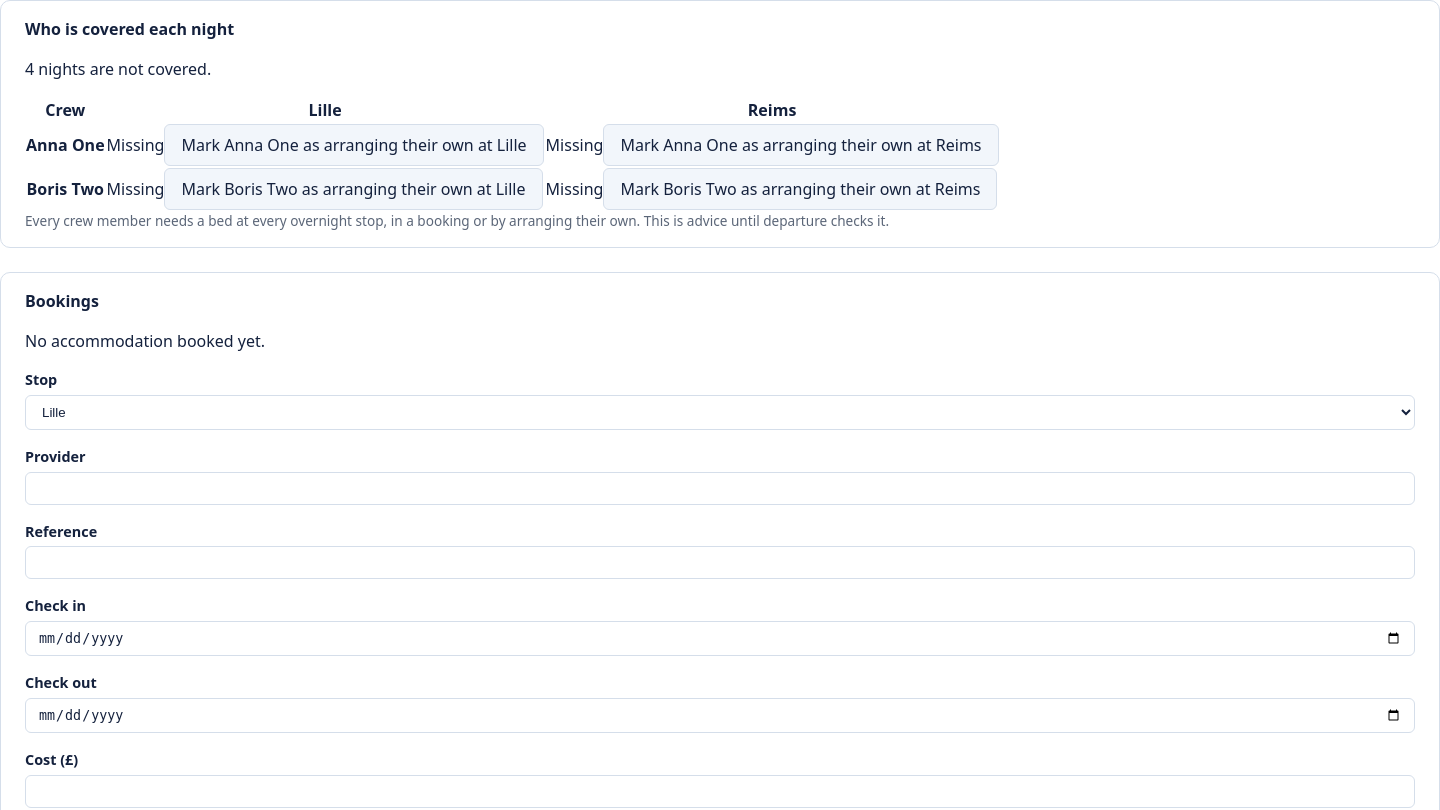
it: a missing cell can be marked as arranging their own, and cleared again
Step 1. Click the button "Mark Anna One as arranging their own at Lille" → coordinates (354, 145), box [164, 124, 544, 166]
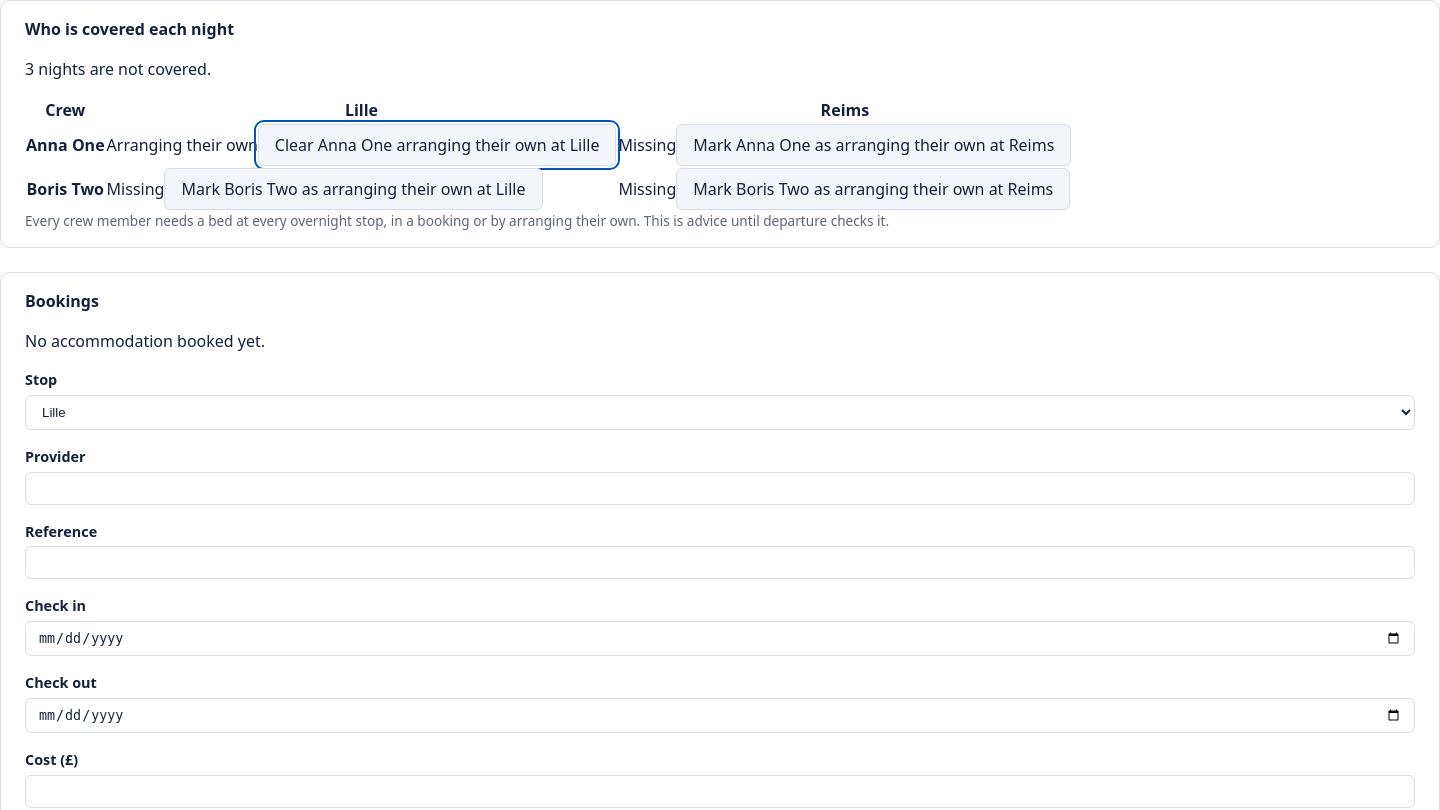
Expected: the cell named "Anna One at Lille: Arranging their own" is shown, [106, 123, 617, 167]
Step 2. Click the button "Clear Anna One arranging their own at Lille" → coordinates (437, 145), box [258, 124, 616, 166]
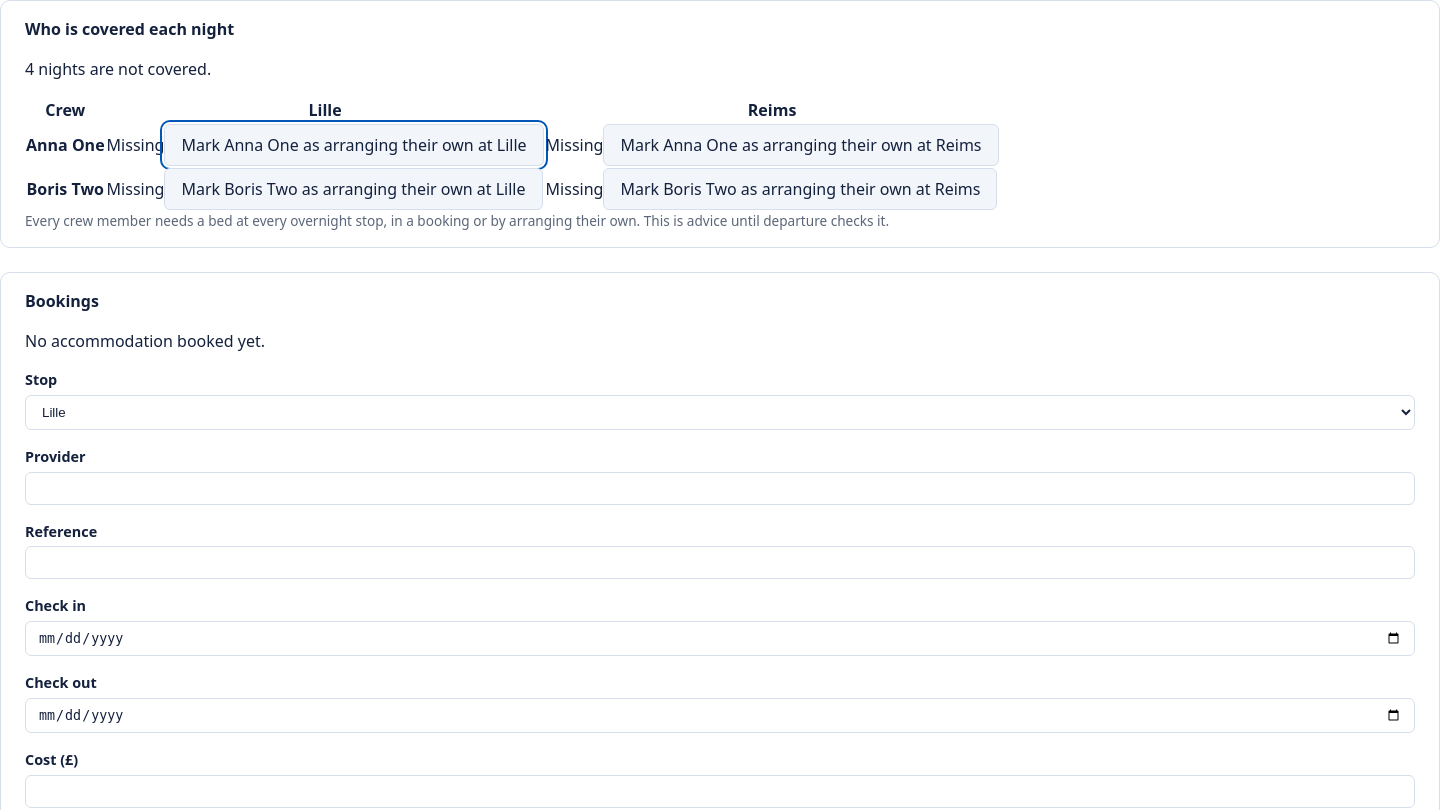
Expected: the cell named "Anna One at Lille: Missing" is shown, [106, 123, 545, 167]
